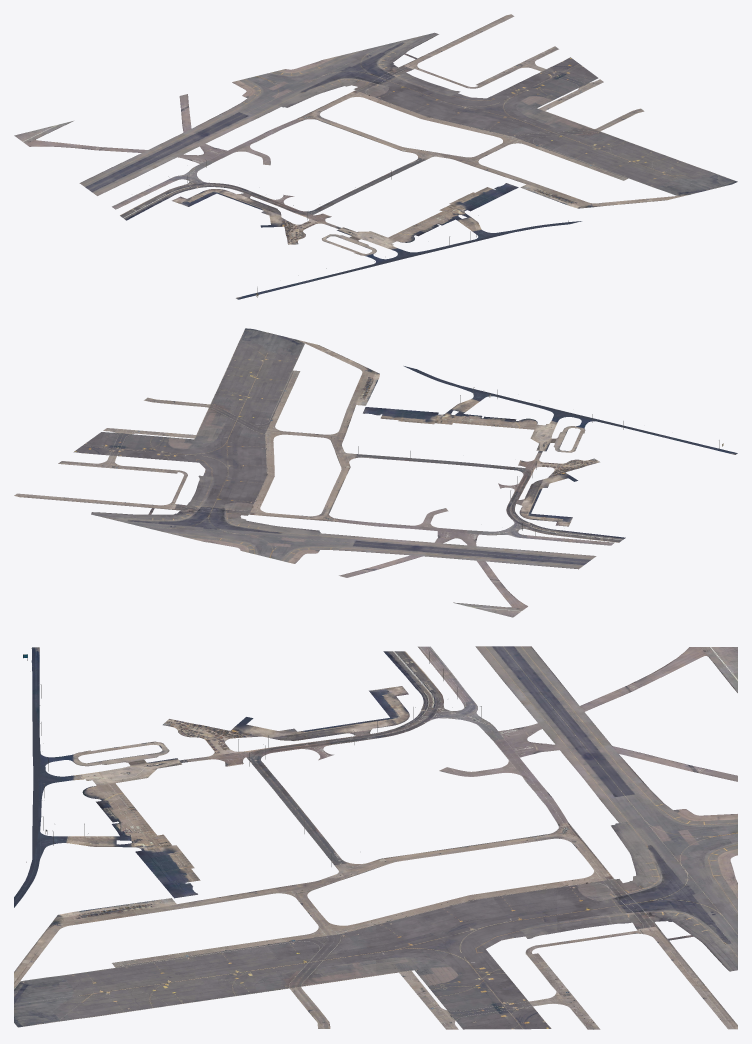
File: roads_context_02.glb
3 renders of one model, top to bottom at view 1: azimuth 30°, elevation 25°; view 2: azimuth 150°, elevation 25°; view 3: azimuth 270°, elevation 25°, orthographic. The views are drawn at different scales.
Visible parts, largest first — view 1: I090001740001062A1.001; view 2: I090001740001062A1.001; view 3: I090001740001062A1.001.
Boxes of the visible parts, x1,y1,x2,y2 form: I090001740001062A1.001: (14,14,737,299); I090001740001062A1.001: (14,328,737,617); I090001740001062A1.001: (14,646,737,1029).
Size of the model in its own units: 750 by 15.98 by 600.
Materials: 10 (10 with a texture image).
